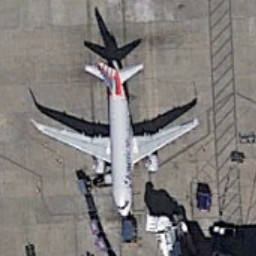Airplane: (18, 44, 207, 227)
